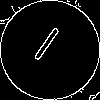I: (25, 25, 63, 70)
